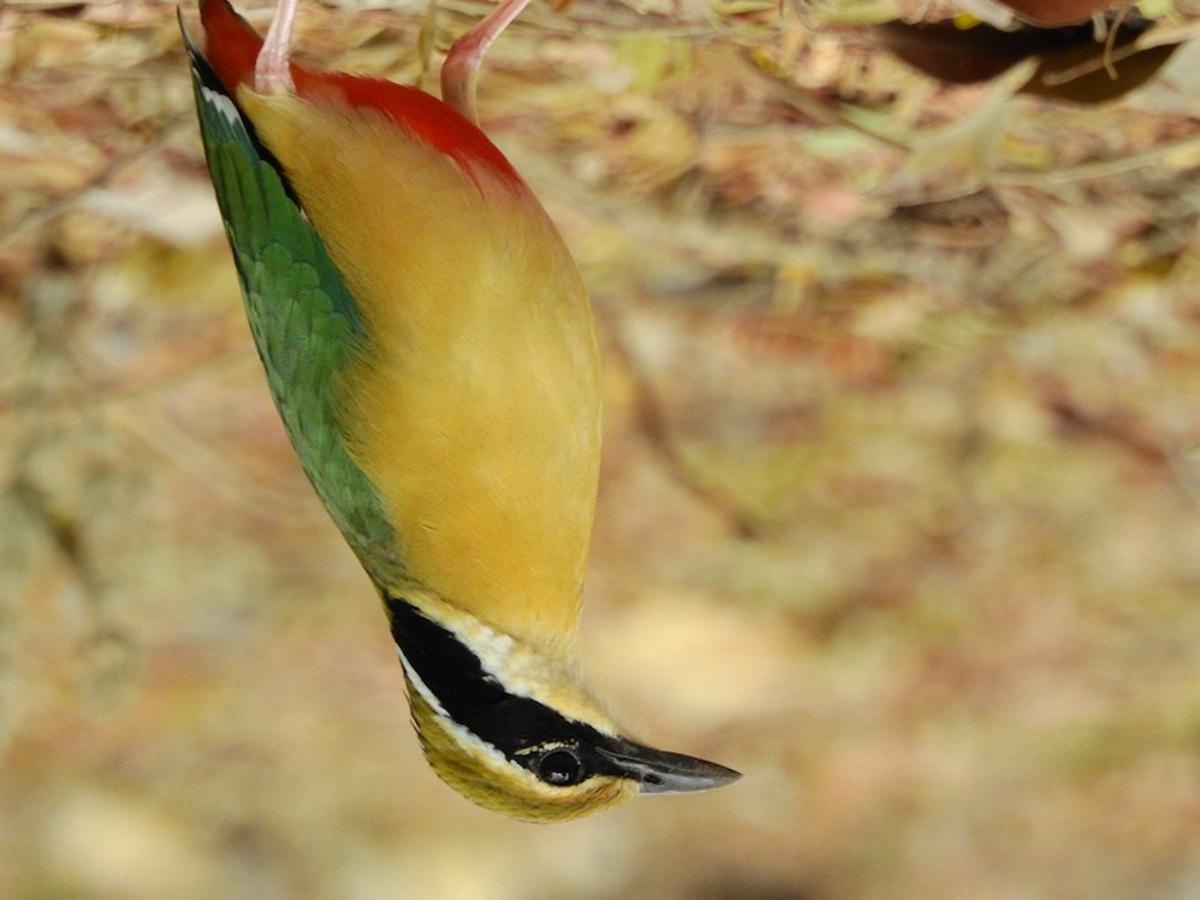pitta: (188, 93, 769, 824)
